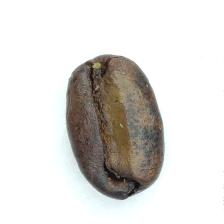NG: (78, 61, 158, 194)
